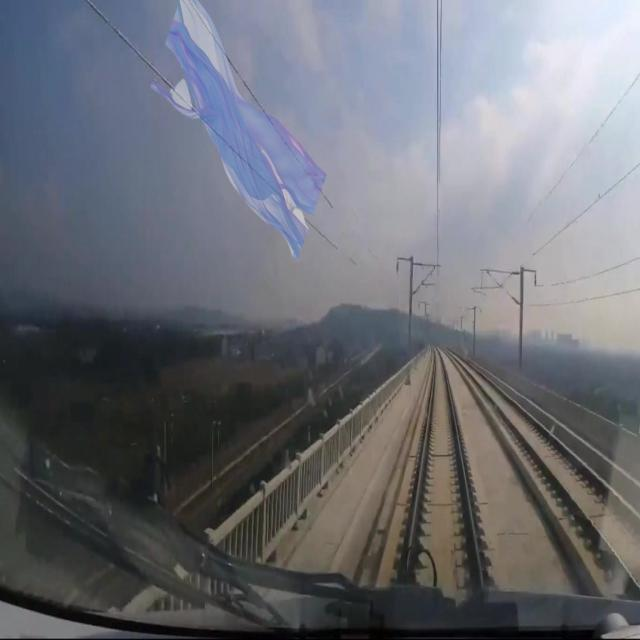floating object: (156, 3, 326, 264)
